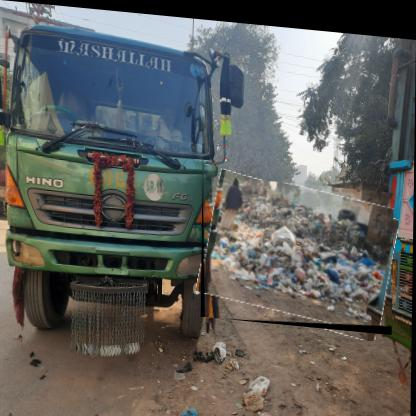Garbage: (202, 172, 396, 329)
